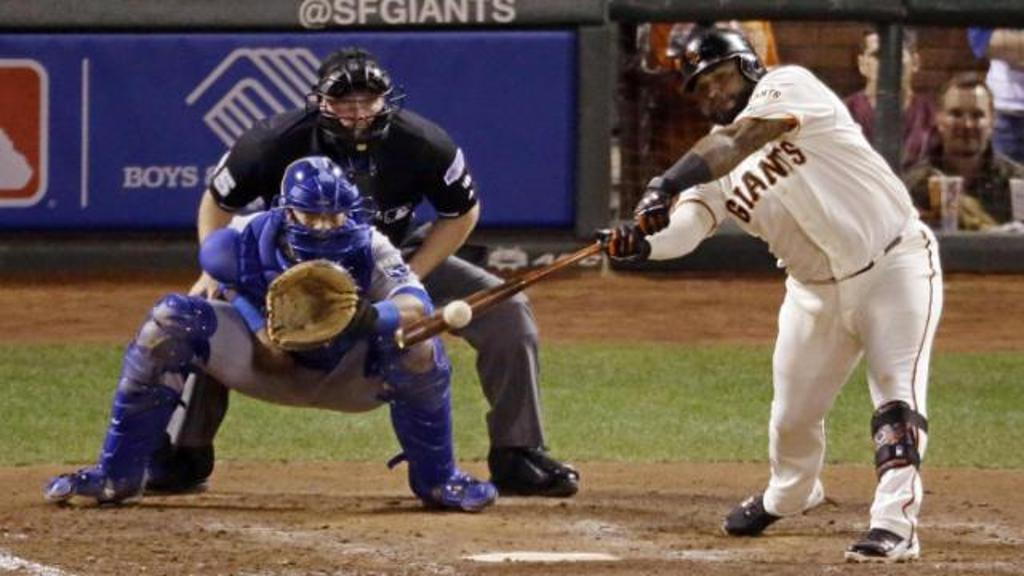face: (325, 82, 385, 146), (694, 60, 744, 119), (943, 96, 988, 152), (865, 38, 912, 81)
face_mask: (293, 199, 346, 260)
